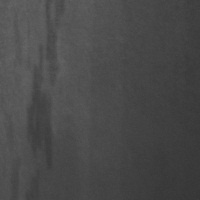inclusion: (21, 2, 67, 197)
